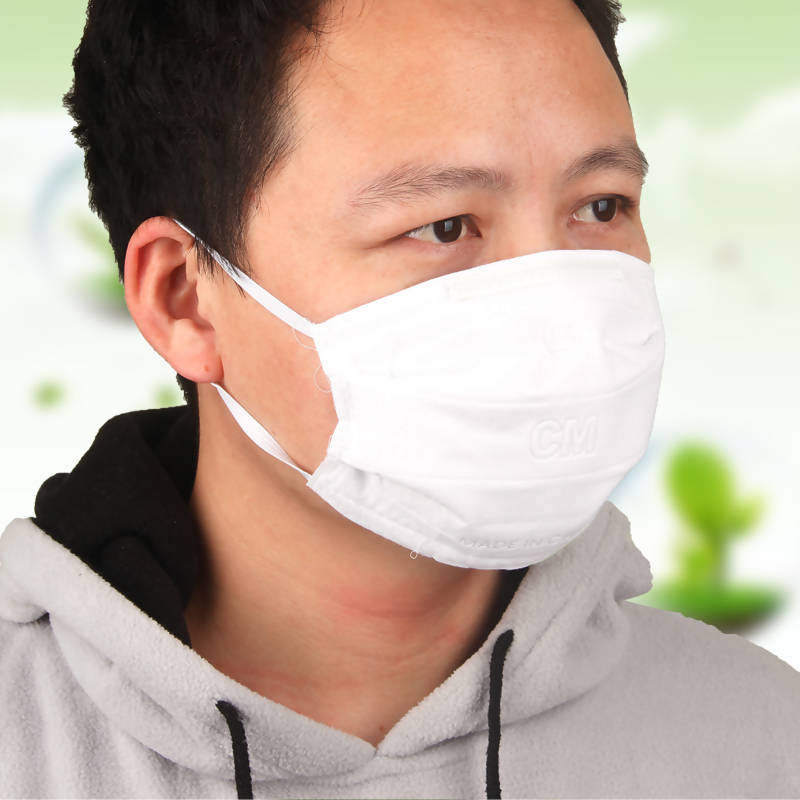face_mask: (265, 1, 655, 571)
